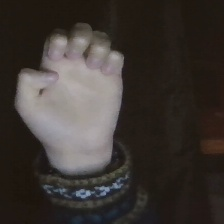E: (9, 16, 133, 159)
